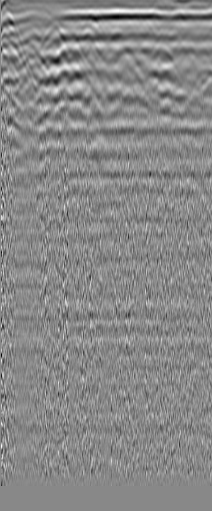오수: (20, 24, 53, 47)
우수: (164, 28, 187, 53)
